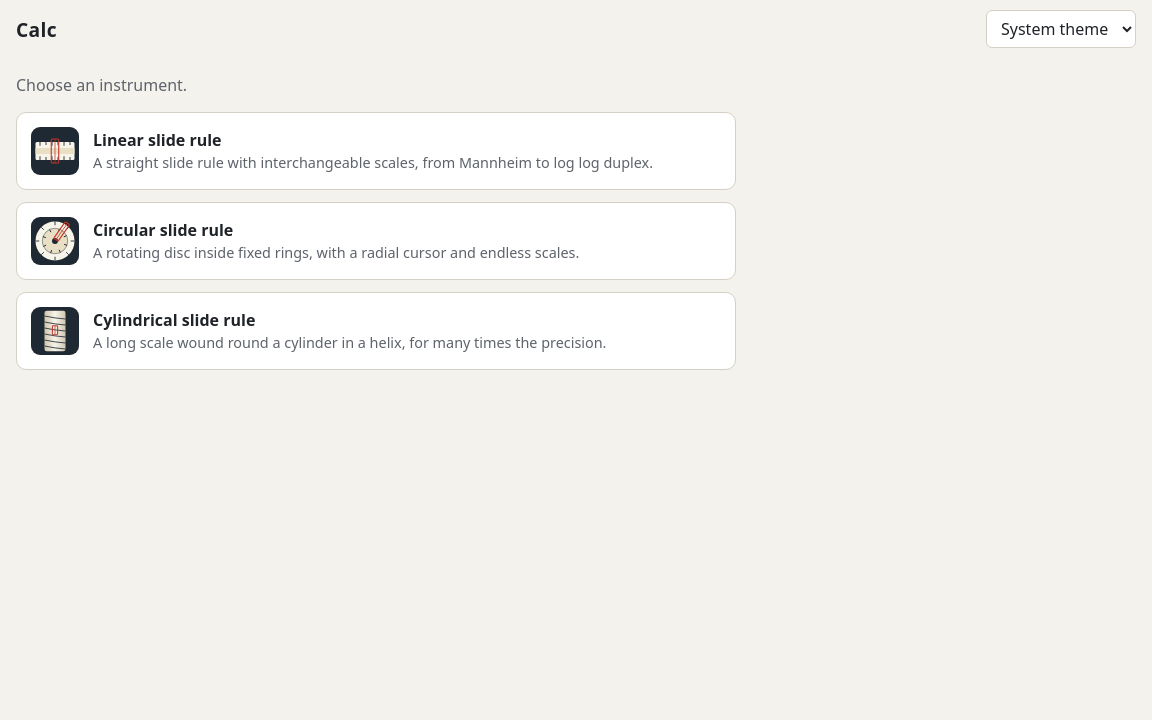
Test: the home page links to the cylindrical slide rule, which opens on Short helix
Click the link "Cylindrical slide rule": (376, 331) top-left (16, 292), bottom-right (736, 370)
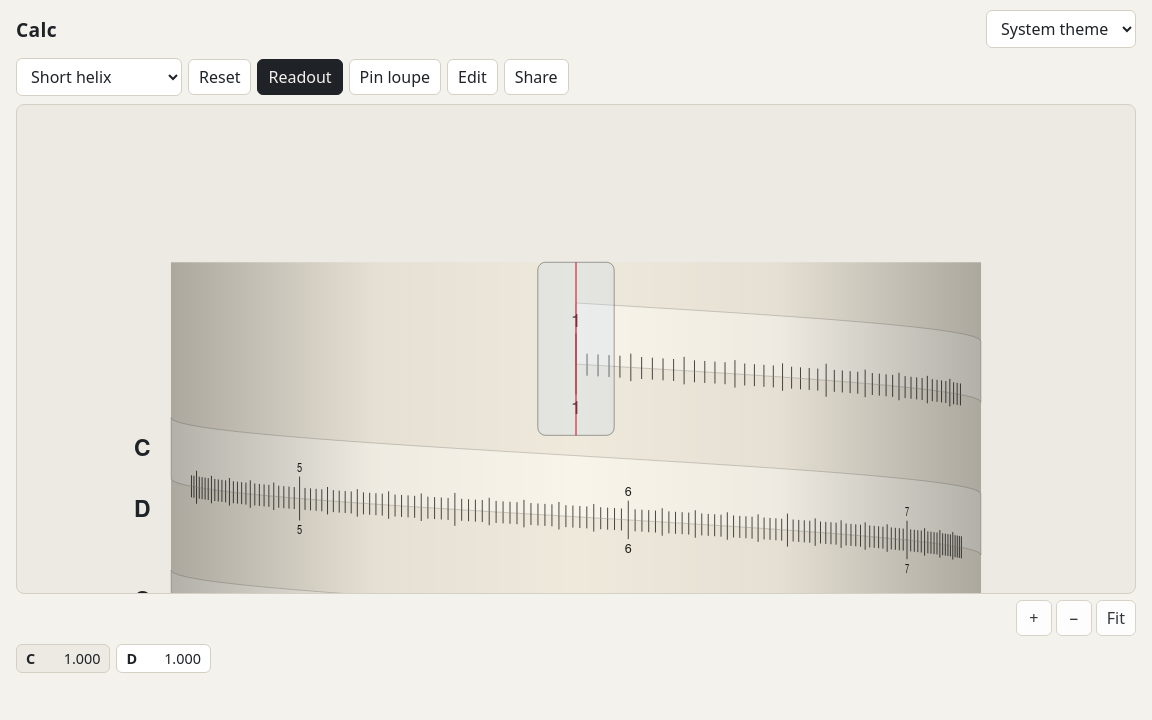
Check: the icon named "Short helix cylindrical slide rule" is shown
